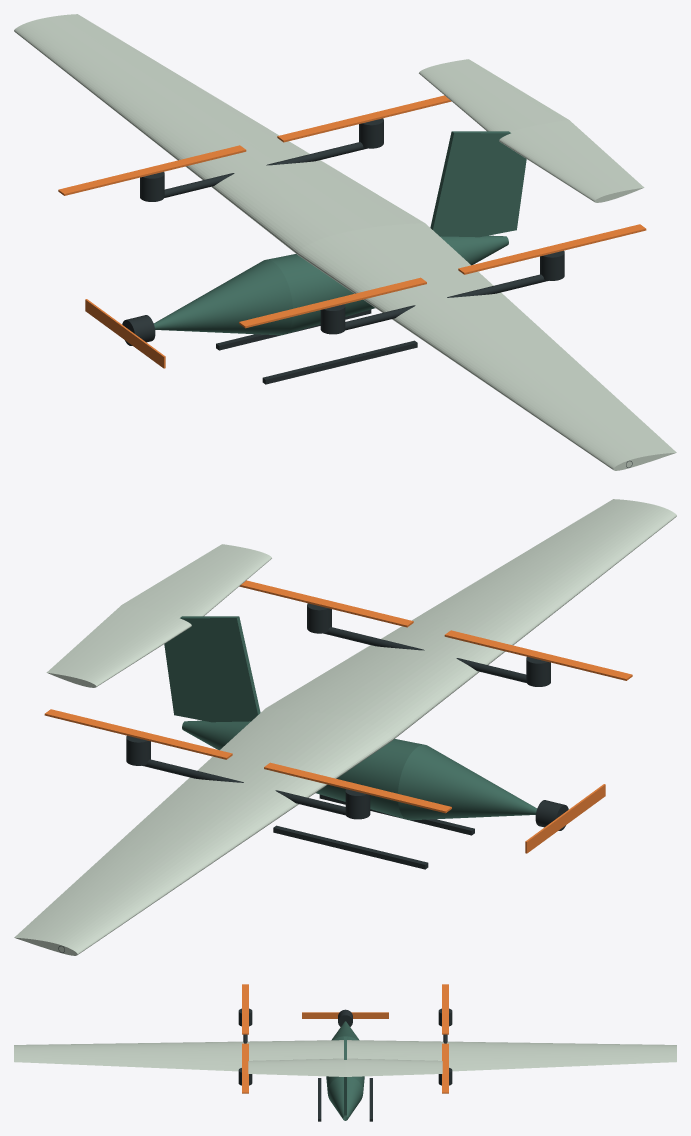
3 views of the same model, one above another, from view 1: azimuth 30°, elevation 25°; view 2: azimuth 150°, elevation 25°; view 3: azimuth 270°, elevation 25° (orthographic). The views are drawn at different scales.
Visible parts, largest first — view 1: wing-1, wing1, fuselage, fin, tail-1, tail1, prop_-1_700.0, prop_-1_210.0, prop_1_210.0, prop_1_700.0, skid-1, boom-1 (+4 smaller); view 2: wing1, wing-1, fuselage, fin, tail1, tail-1, prop_1_700.0, prop_1_210.0, prop_-1_210.0, prop_-1_700.0, skid1, boom1 (+4 smaller); view 3: wing-1, wing1, tail-1, tail1, fuselage, cruise_prop, prop_-1_210.0, prop_-1_700.0, prop_1_210.0, prop_1_700.0.
Boxes of the visible parts, <box> form: wing-1: <box>297,223,676,470</box>; wing1: <box>14,14,424,254</box>; fuselage: <box>153,235,508,335</box>; fin: <box>430,131,526,237</box>; tail-1: <box>499,120,644,202</box>; tail1: <box>419,59,568,132</box>; prop_-1_700.0: <box>458,224,646,274</box>; prop_-1_210.0: <box>239,277,426,328</box>; prop_1_210.0: <box>58,145,246,195</box>; prop_1_700.0: <box>277,95,451,142</box>; skid-1: <box>262,340,417,384</box>; boom-1: <box>345,274,548,330</box>; wing1: <box>14,708,393,955</box>; wing-1: <box>266,499,676,739</box>; fuselage: <box>182,720,537,820</box>; fin: <box>164,616,260,722</box>; tail1: <box>46,605,191,687</box>; tail-1: <box>122,544,271,617</box>; prop_1_700.0: <box>44,709,232,759</box>; prop_1_210.0: <box>264,762,451,813</box>; prop_-1_210.0: <box>444,630,632,680</box>; prop_-1_700.0: <box>239,580,413,627</box>; skid1: <box>273,825,428,869</box>; boom1: <box>142,759,345,815</box>; wing-1: <box>14,1040,343,1071</box>; wing1: <box>347,1040,676,1071</box>; tail-1: <box>248,1058,345,1076</box>; tail1: <box>345,1058,442,1076</box>; fuselage: <box>326,1021,364,1120</box>; cruise_prop: <box>302,1012,388,1018</box>; prop_-1_210.0: <box>242,984,248,1034</box>; prop_-1_700.0: <box>242,1043,248,1093</box>; prop_1_210.0: <box>442,984,448,1034</box>; prop_1_700.0: <box>442,1043,448,1093</box>.
Bounding box in the file's own units: 994 × 390 × 2320.
